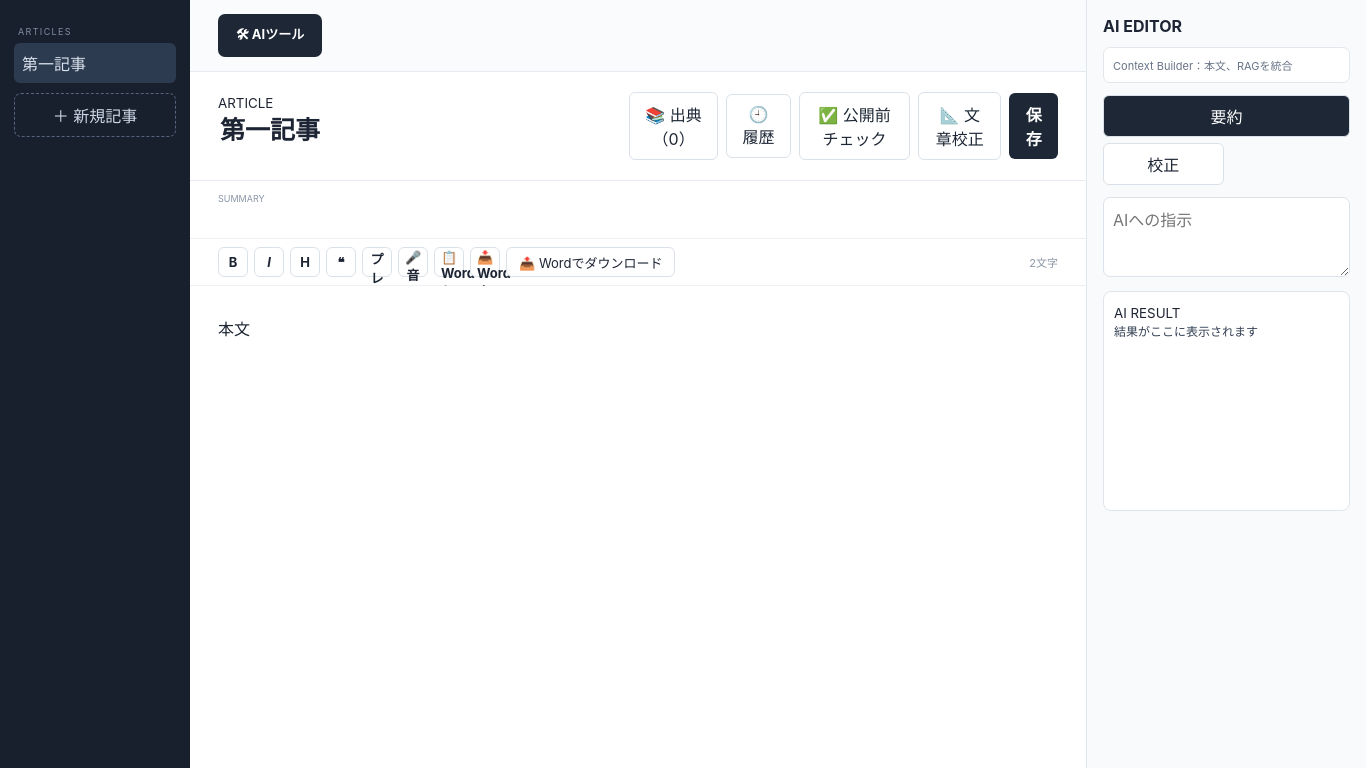
Scenario: WritePanel › opens the AI tool picker and runs a direct tool
Click the button "🛠 AIツール" at {"x": 270, "y": 36}, box [218,14,322,57]
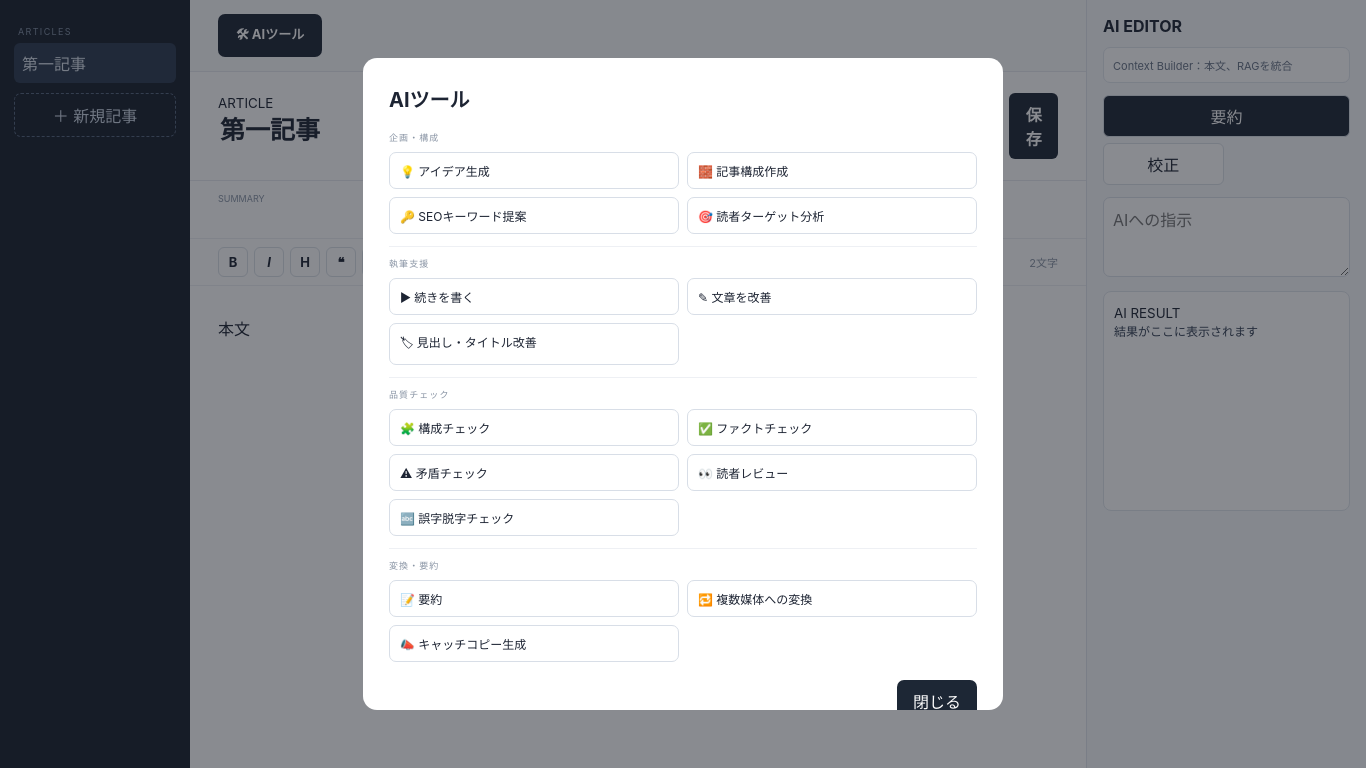
Click the button "✎ 文章を改善" at {"x": 735, "y": 297}, box [687,278,977,315]
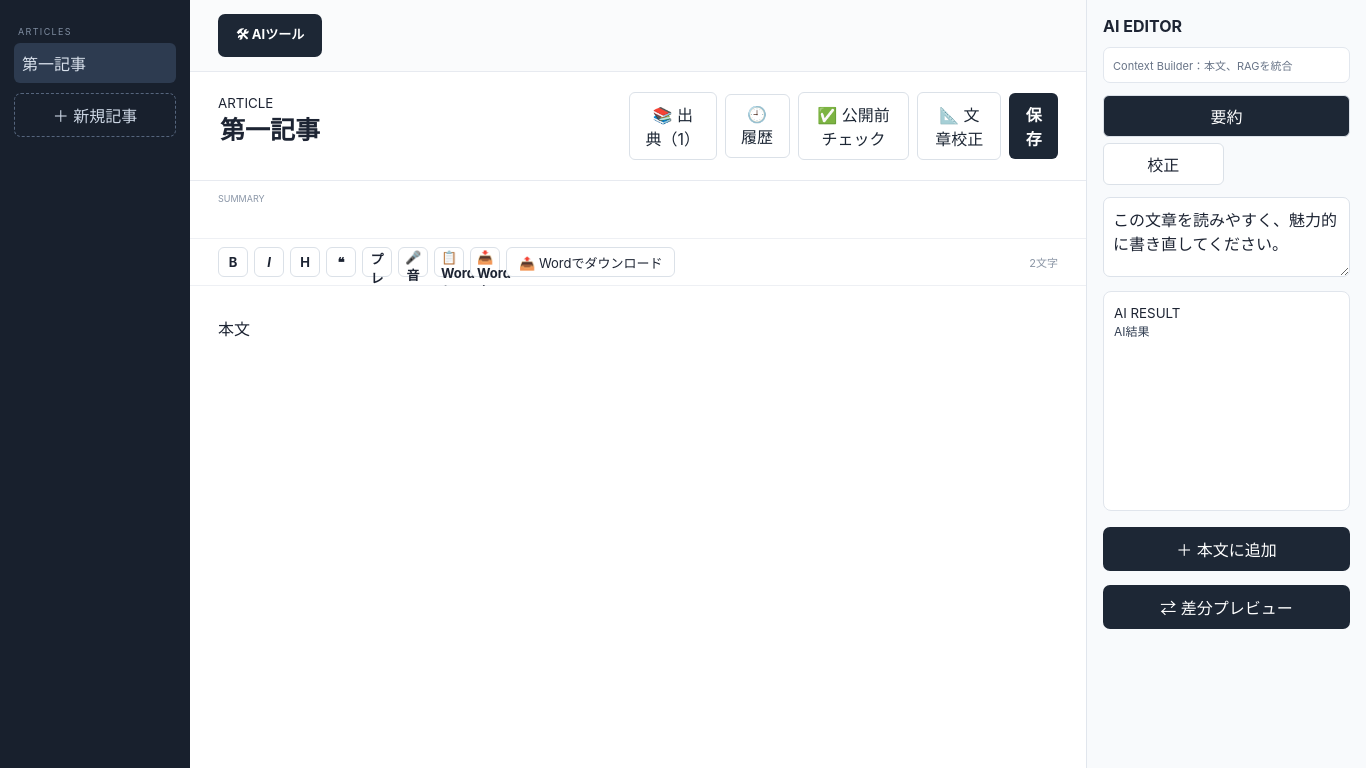
Check: the text "AI結果" is shown, box [1114,324,1150,339]
